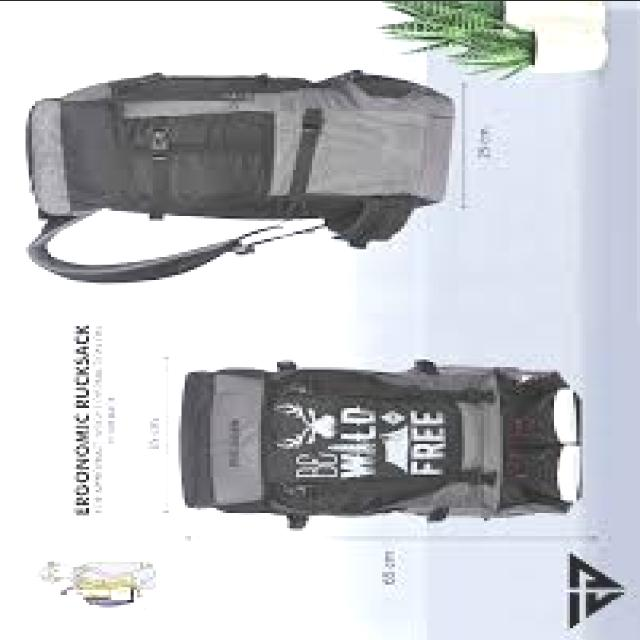backpack: (24, 70, 457, 285), (177, 359, 581, 531)
